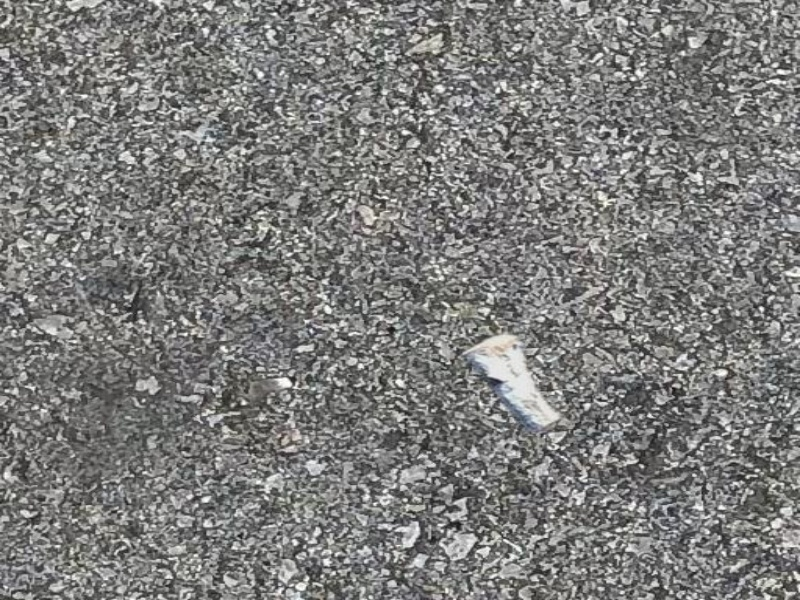cig: (460, 332, 572, 433)
